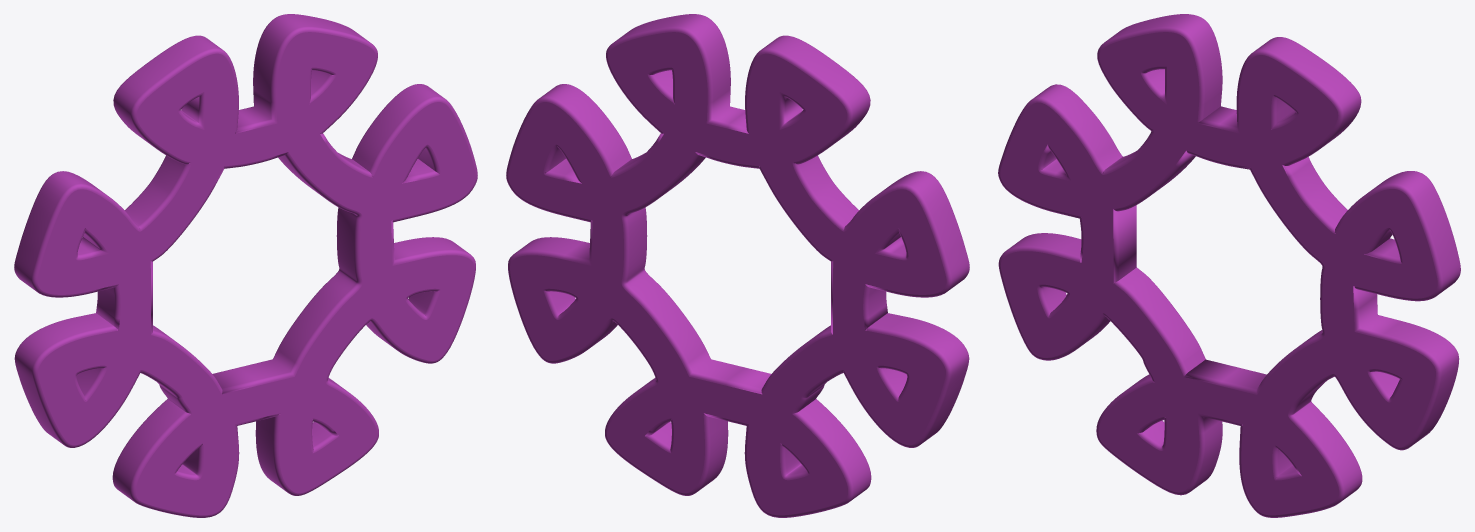
The model's file is cerise.fbx.
3 views of the same model, side by side, from view 1: azimuth 30°, elevation 25°; view 2: azimuth 150°, elevation 25°; view 3: azimuth 330°, elevation 25° (orthographic).
Visible parts, largest first — view 1: path2; view 2: path2; view 3: path2.
Boxes of the visible parts, x1=… form: path2: x1=14, y1=14, x2=477, y2=517; path2: x1=506, y1=14, x2=969, y2=517; path2: x1=998, y1=14, x2=1460, y2=517.
Size of the model in its own units: 305 by 306 by 25.
